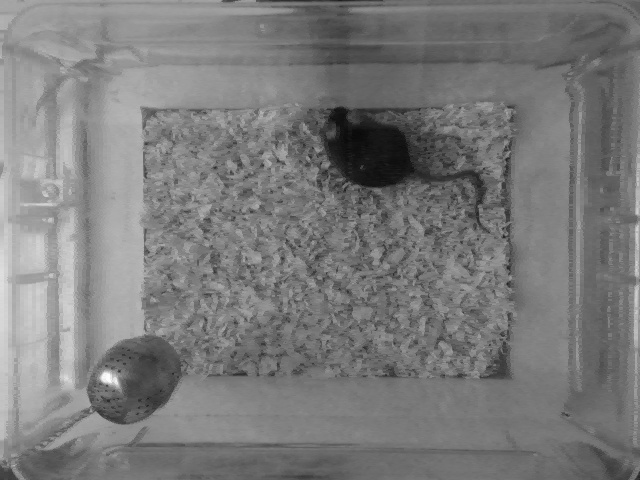mice: (317, 105, 491, 229)
